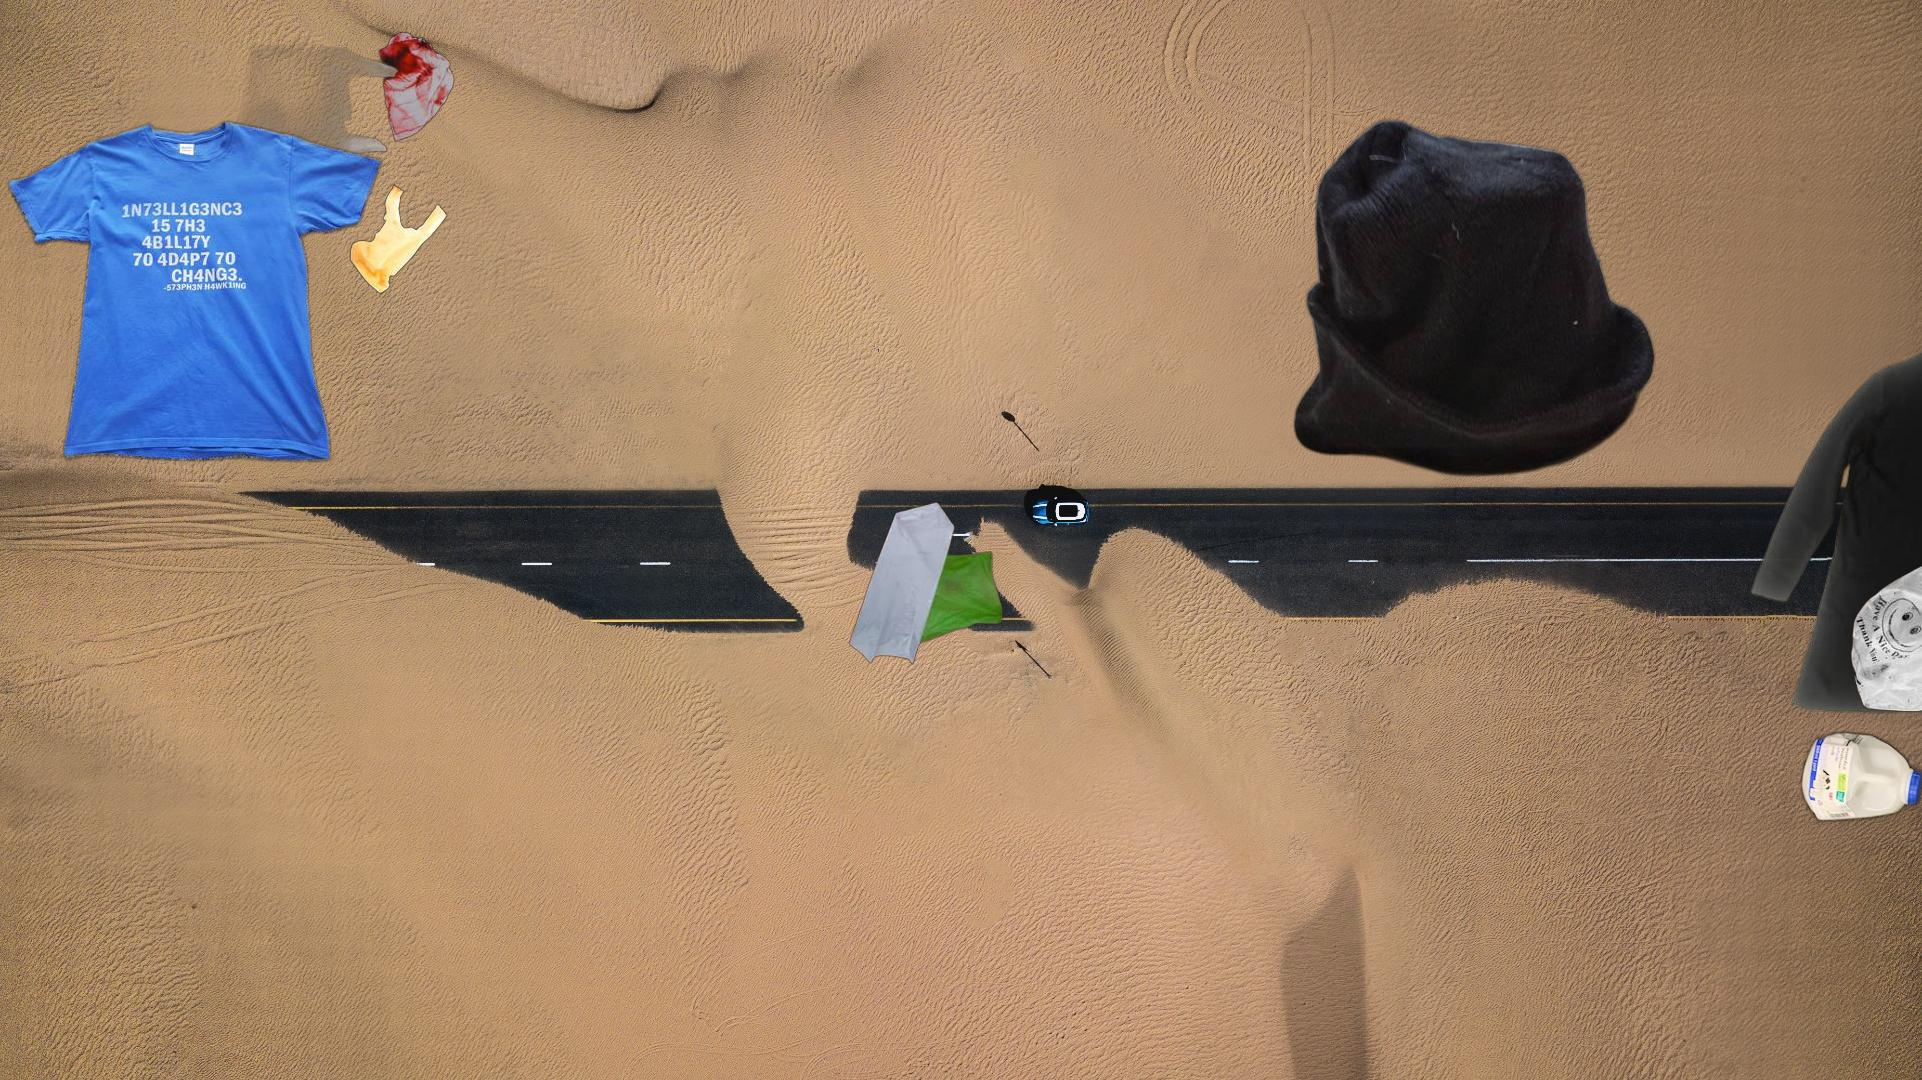clothes: (1291, 116, 1659, 481), (5, 118, 385, 466), (1746, 338, 1922, 721)
penholder: (1100, 1065, 1849, 1080)
plastic-bag: (223, 18, 458, 296), (778, 500, 1005, 665), (1848, 552, 1922, 713)
plastic-bottles: (1698, 595, 1922, 1080)
